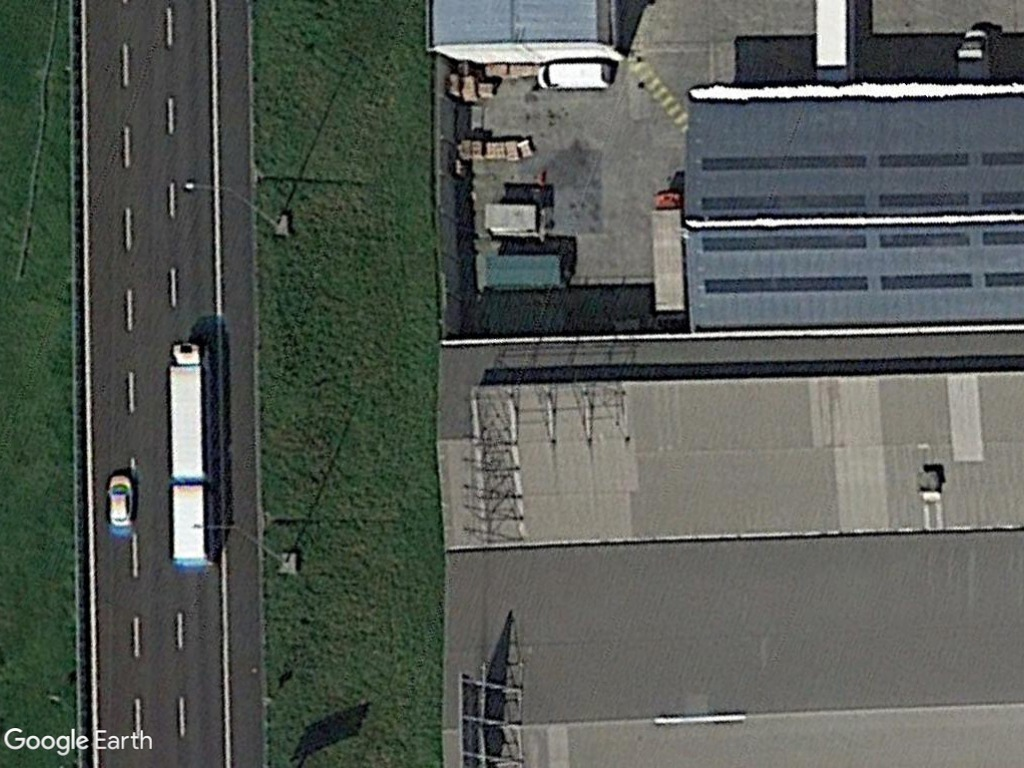car: (104, 471, 140, 529)
longvehicle: (164, 338, 216, 565)
van: (534, 59, 614, 93)
